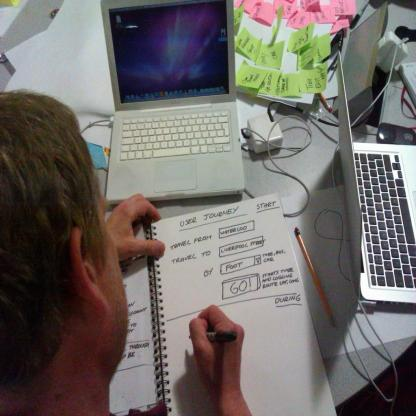board: (93, 7, 246, 204), (337, 51, 416, 309)
